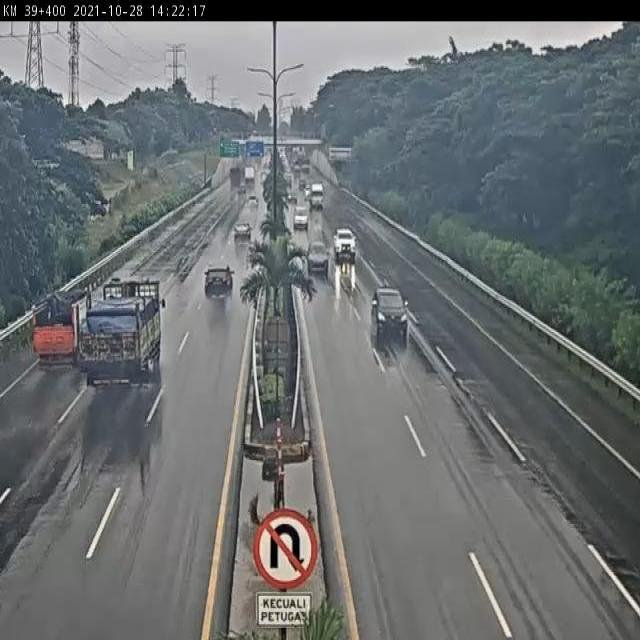Car: (370, 287, 410, 335), (204, 266, 235, 297), (333, 228, 357, 263), (234, 222, 252, 240)
Truck: (74, 280, 167, 382), (29, 288, 93, 368), (309, 180, 325, 211), (244, 166, 255, 186)
